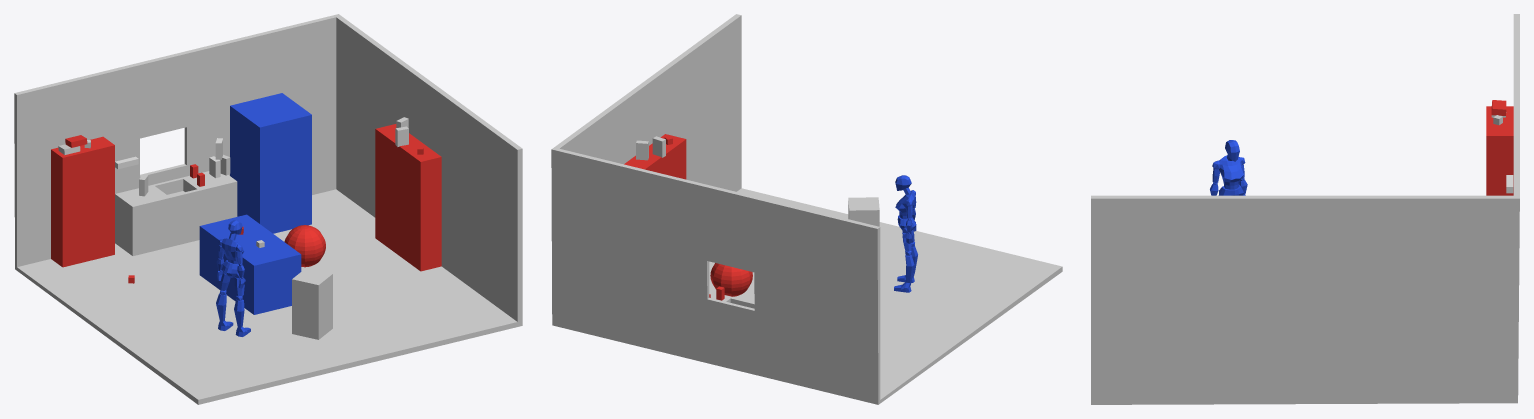
The model's file is Escenario_placeholder_2.0 (1).glb.
3 views of the same model, side by side, from view 1: azimuth 30°, elevation 25°; view 2: azimuth 150°, elevation 25°; view 3: azimuth 270°, elevation 25° (orthographic). The views are drawn at different scales.
Parts seen in each view (by area): view 1: Cocina, Heladera, Cube.013, Librero, Bacha, Mesa, Silla, Human, Ball; view 2: Cocina, Human, Cube.013, Ball, Silla; view 3: Cocina, Librero, Human.
Part boxes in pixels (x1,y1,x2,y2): Cocina: (14, 14, 522, 404); Heladera: (230, 93, 311, 233); Cube.013: (375, 124, 441, 271); Librero: (51, 136, 114, 267); Bacha: (115, 171, 237, 255); Mesa: (199, 214, 301, 314); Silla: (292, 268, 332, 339); Human: (216, 220, 250, 336); Ball: (284, 225, 325, 267); Cocina: (551, 14, 1062, 404); Human: (894, 175, 917, 292); Cube.013: (624, 134, 686, 179); Ball: (710, 263, 752, 296); Silla: (848, 197, 879, 226); Cocina: (1091, 14, 1519, 404); Librero: (1486, 106, 1513, 195); Human: (1210, 140, 1247, 195).
Size of what is drawn, in the model's own units: 124 by 64.69 by 122.
